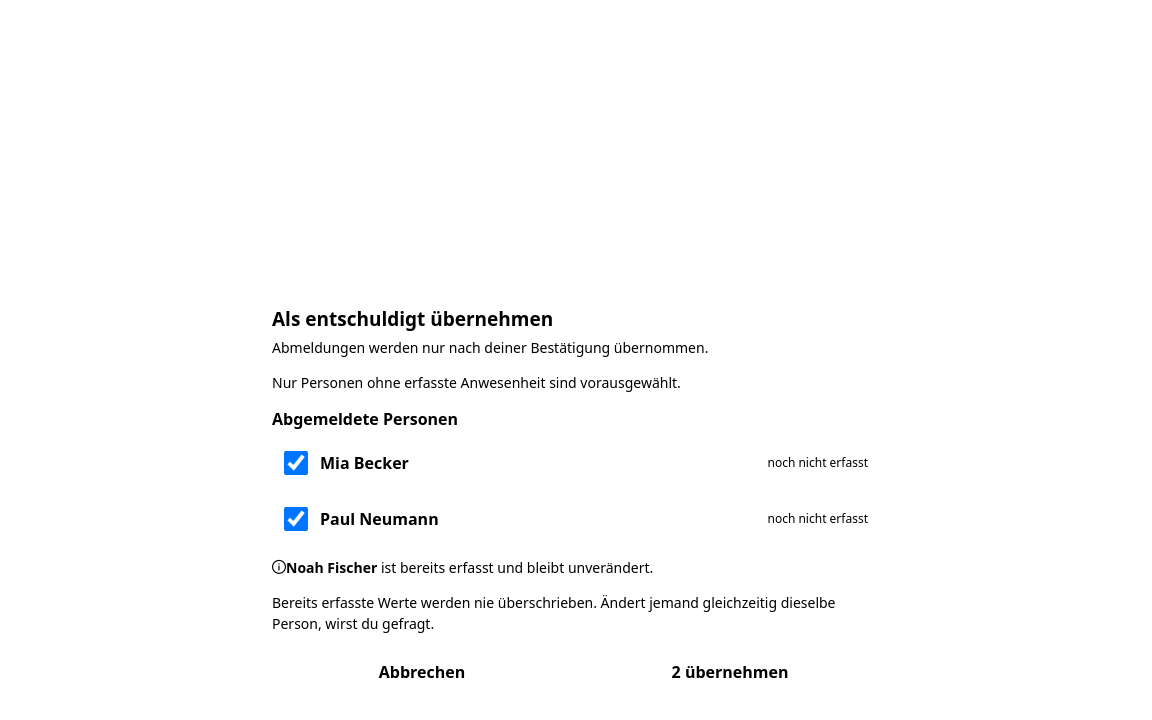
it: ExcusedTakeoverSheet › previews, preselects only people without attendance and applies the chosen ids
Check: the button with class "btn--primary" reads "2 übernehmen", box left=580, top=648, right=880, bottom=696
Click the checkbox labelled "Paul Neumann noch nicht erfasst": (296,519) left=284, top=507, right=308, bottom=531
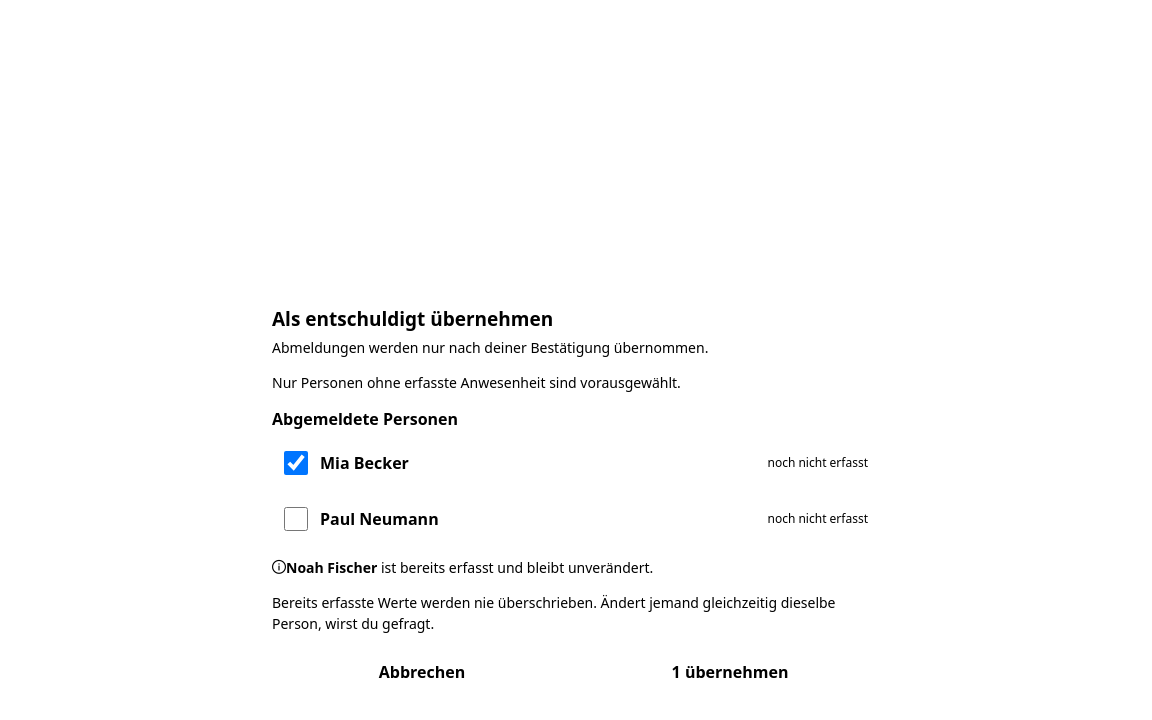
Check: the button with class "btn--primary" reads "1 übernehmen"
Click the button with class "btn--primary": (730,672) left=580, top=648, right=880, bottom=696
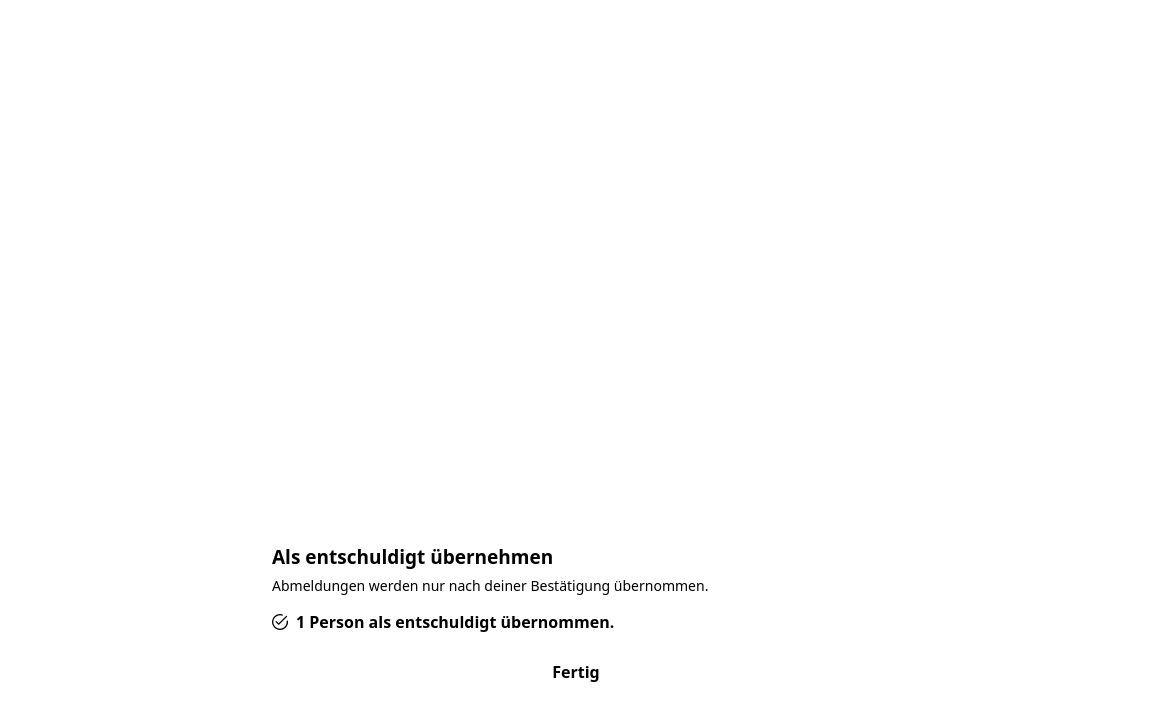
Check: the text "1 Person als entschuldigt übernommen" is shown, box left=296, top=611, right=614, bottom=633
